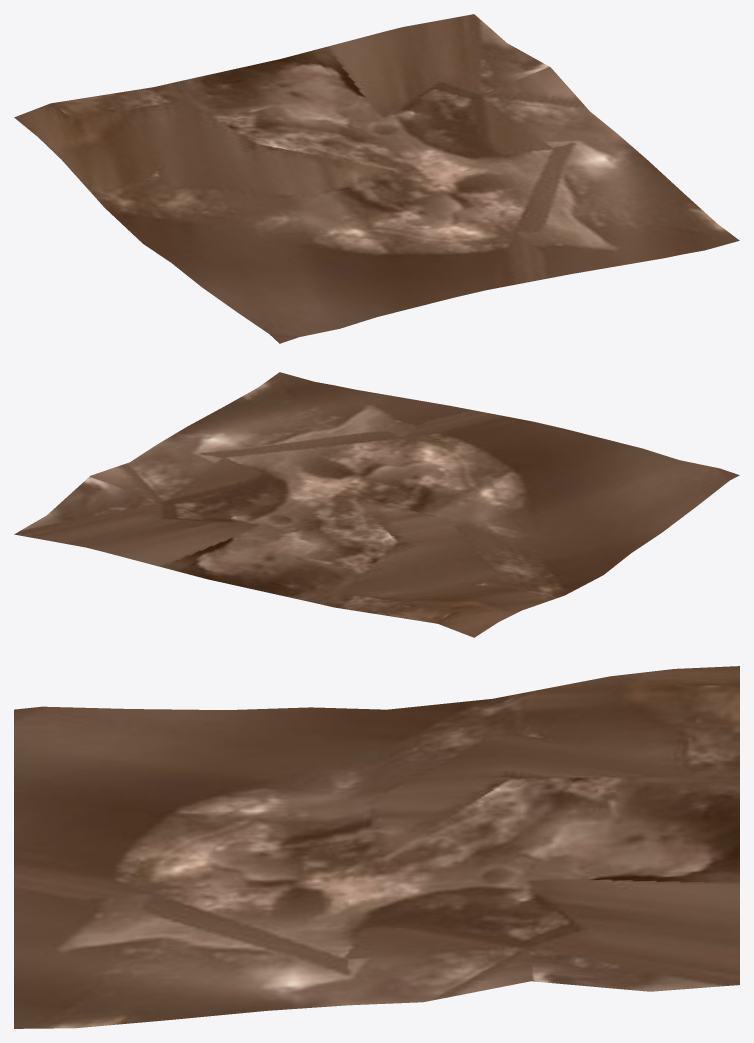
3 views of the same model, one above another, from view 1: azimuth 30°, elevation 25°; view 2: azimuth 150°, elevation 25°; view 3: azimuth 270°, elevation 25° (orthographic). The views are drawn at different scales.
Size of the model in its own units: 256 by 25.17 by 256.
1 material, 1 textured.
